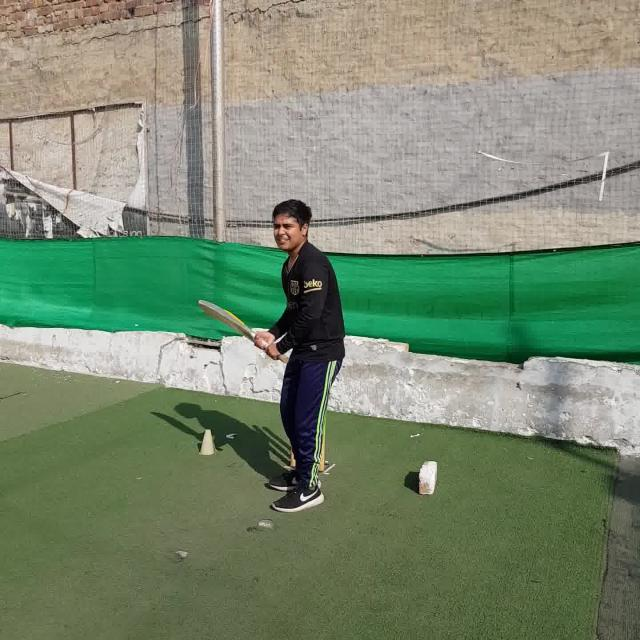bat: (198, 298, 288, 362)
